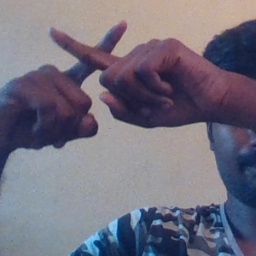X: (33, 11, 153, 133)
